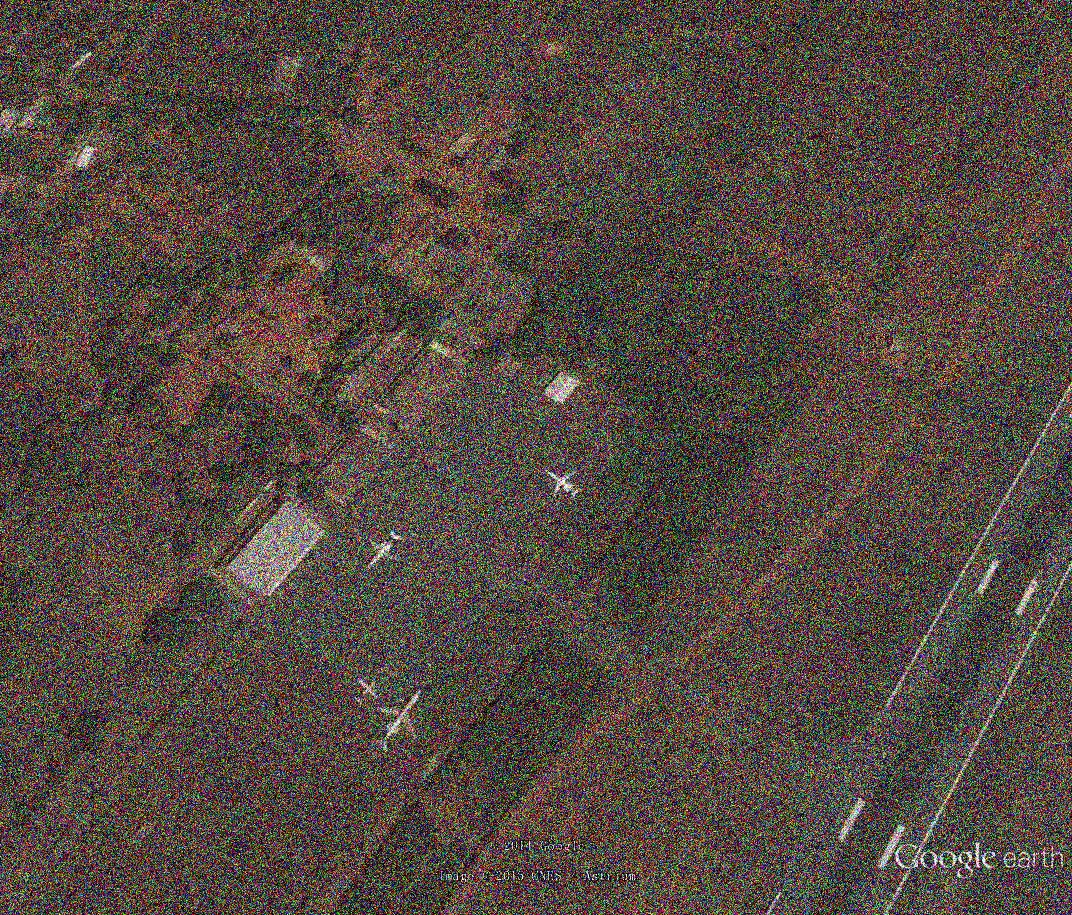aircraft: (367, 685, 425, 757), (364, 525, 406, 571), (544, 465, 585, 502), (352, 676, 383, 709)
